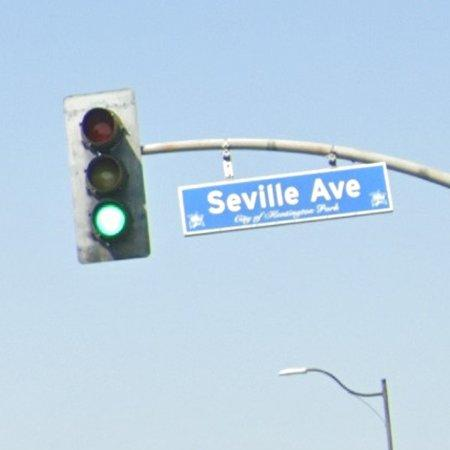traffic lights: (62, 85, 152, 265)
